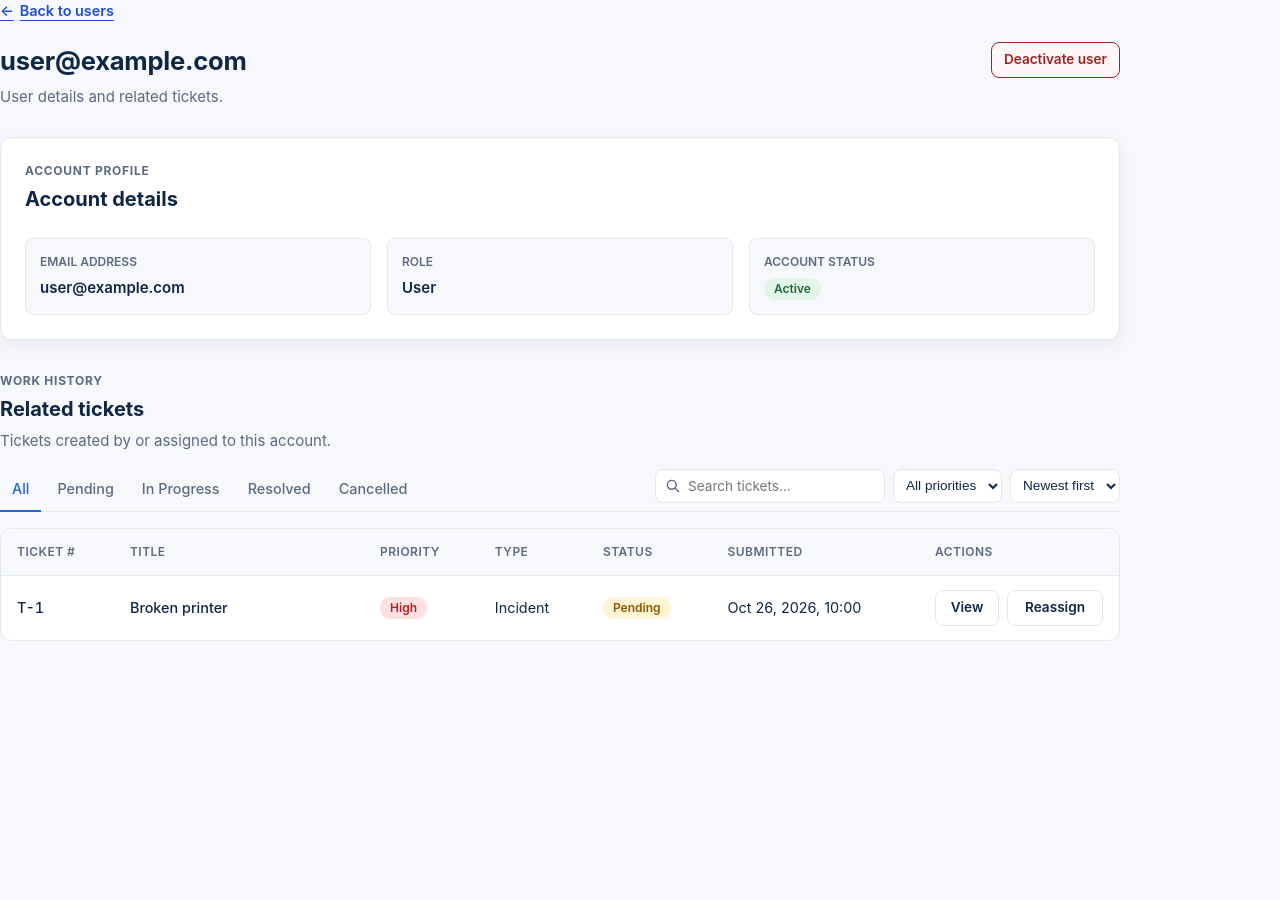
Test: UserDetailsComponent › lets administrators reassign an open ticket through a confirmation popup
Click the button "Reassign" at (1055, 608), box [1007, 590, 1103, 626]
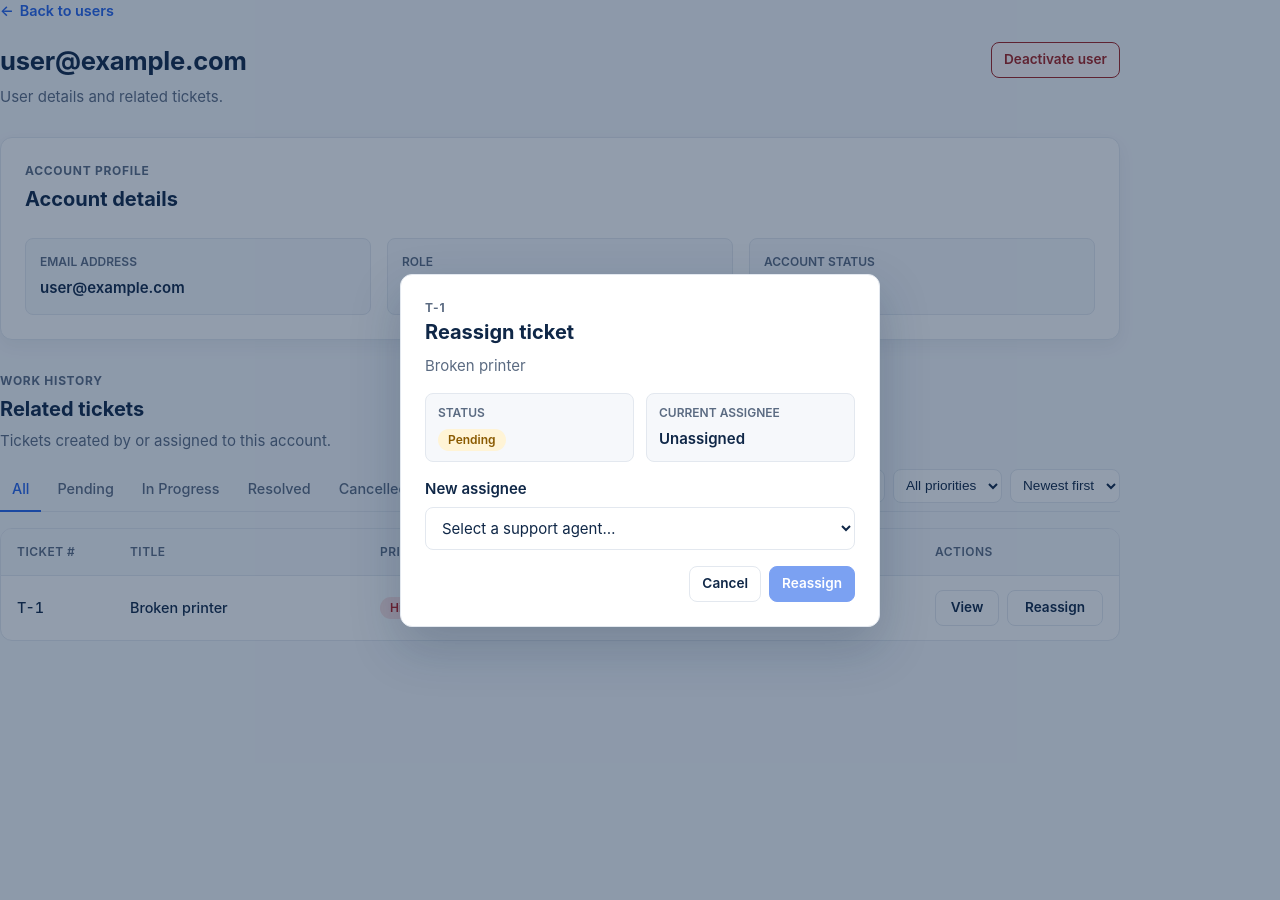
Result: the dialog shows "T-1" at [425, 300, 445, 314]
Result: the button "Reassign" is disabled at [769, 566, 855, 602]
Select "agent9@example.com" in the dropdown labelled "New assignee" at (640, 528), box [425, 506, 855, 550]
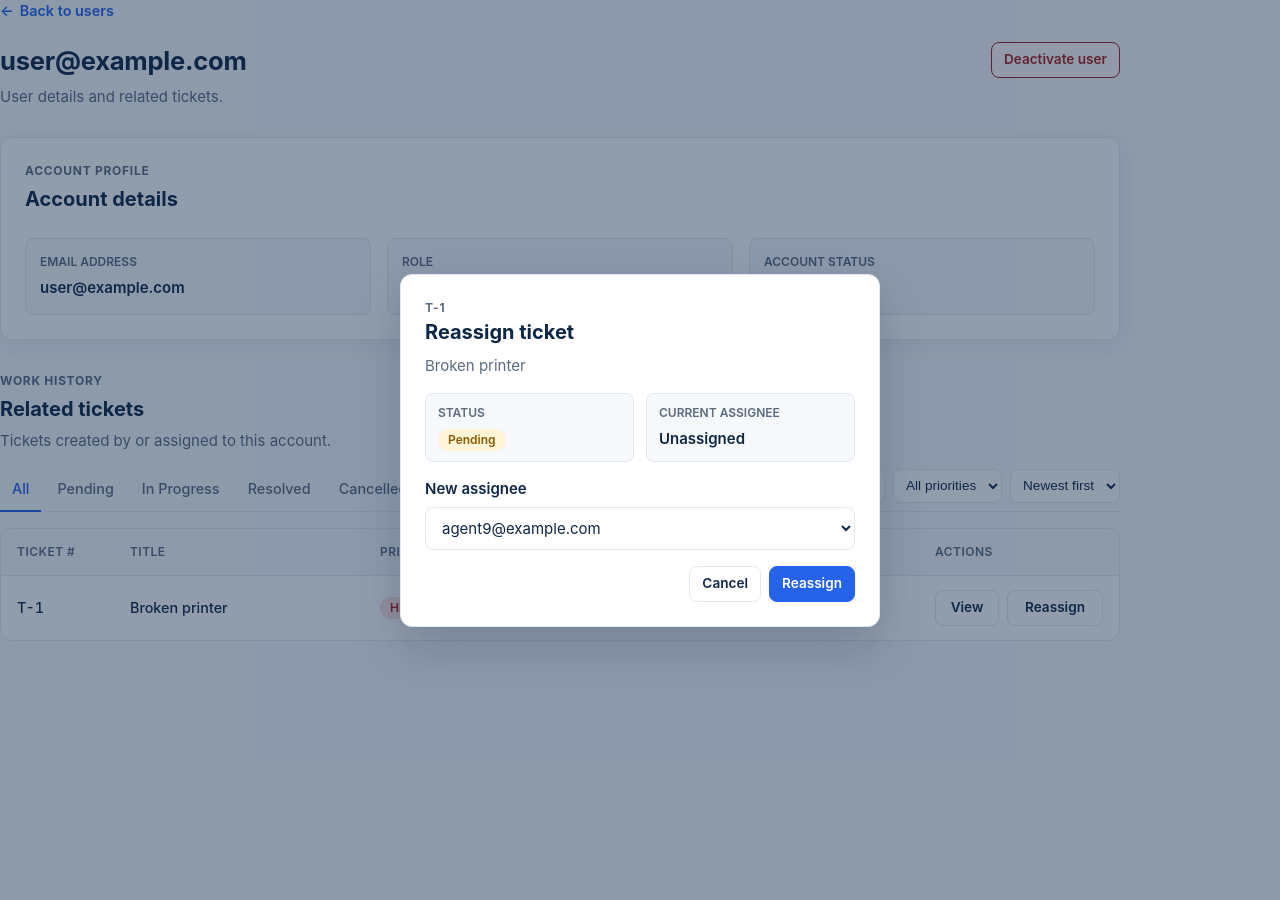
Result: the button "Reassign" is enabled
Click the button "Reassign" at (812, 584), box [769, 566, 855, 602]
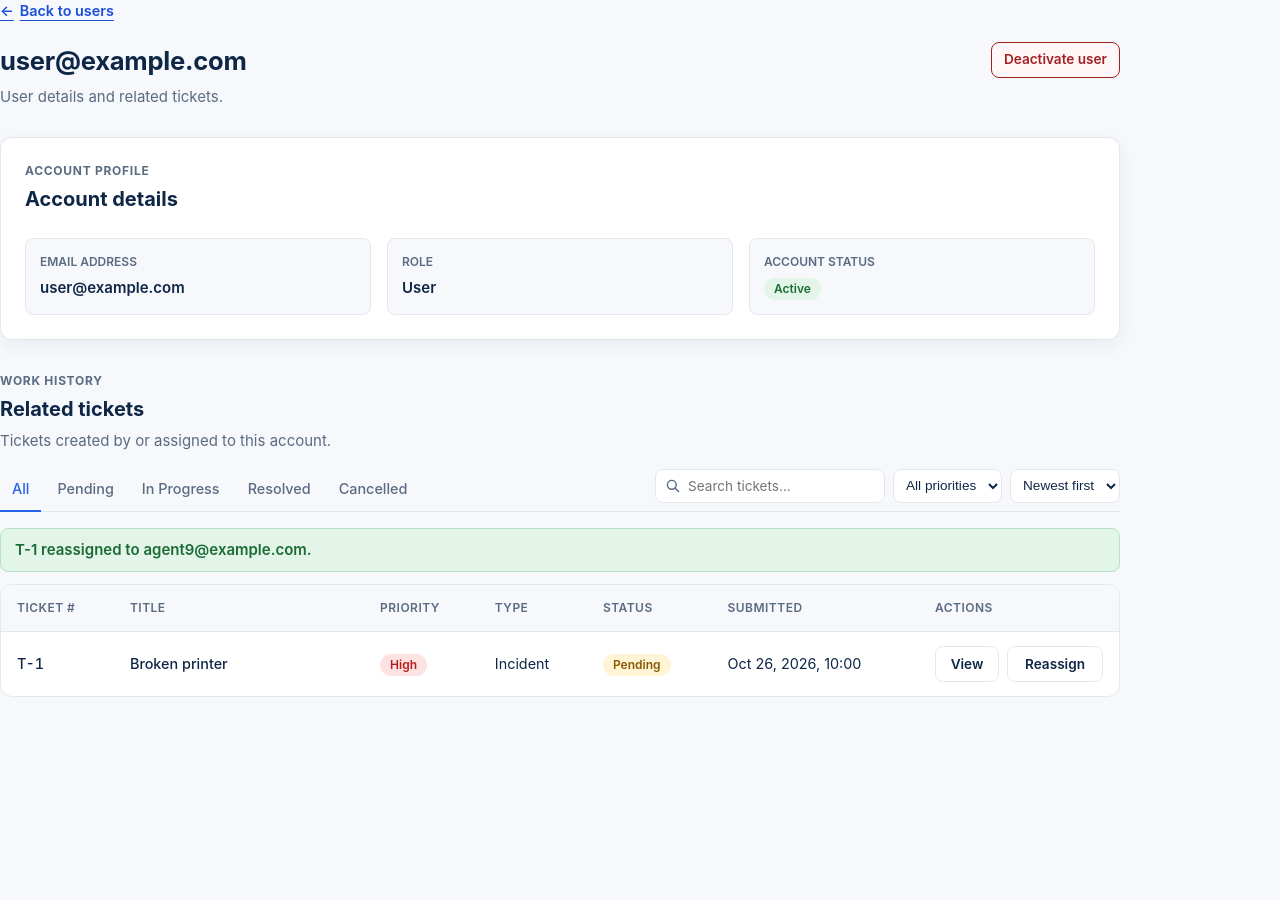
Result: the dialog is gone
Result: the text "T-1 reassigned to agent9@example.com." is shown at [0, 528, 1120, 572]
